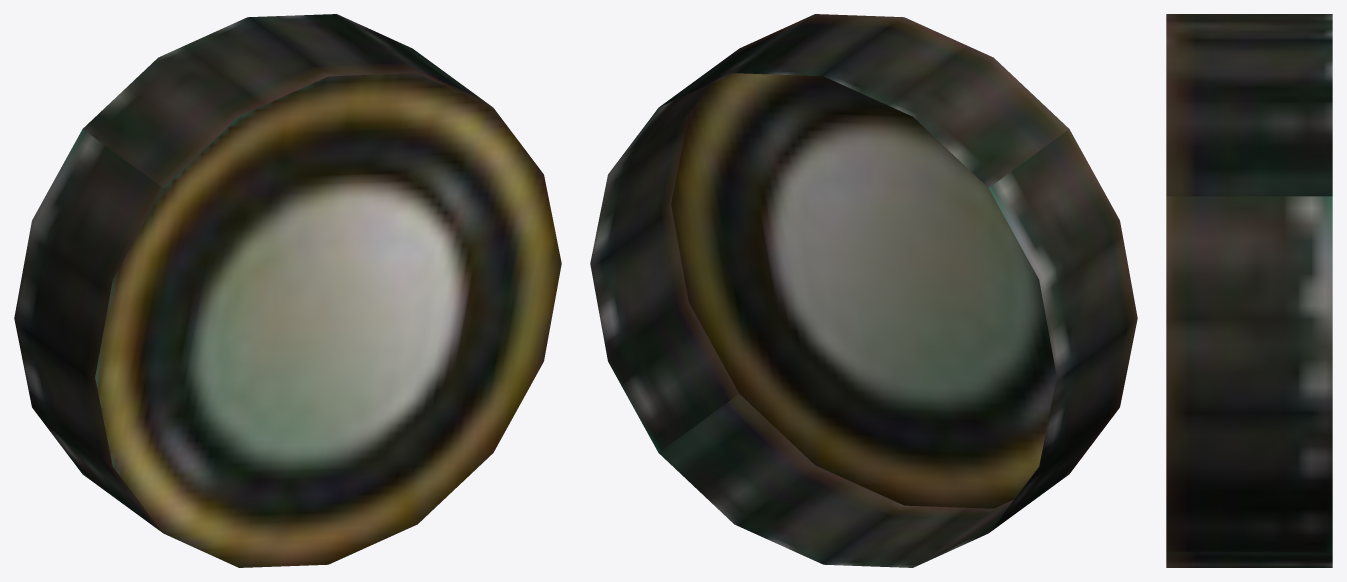
File: round_lever_001.obj
The picture shows the model from 3 angles, left to right: view 1: azimuth 30°, elevation 25°; view 2: azimuth 150°, elevation 25°; view 3: azimuth 270°, elevation 25°; orthographic projection. The views are drawn at different scales.
Visible parts, largest first — view 1: round_lever_001_Cylinder.001; view 2: round_lever_001_Cylinder.001; view 3: round_lever_001_Cylinder.001.
Boxes of the visible parts, x1=… form: round_lever_001_Cylinder.001: x1=14, y1=14, x2=561, y2=567; round_lever_001_Cylinder.001: x1=590, y1=14, x2=1137, y2=567; round_lever_001_Cylinder.001: x1=1166, y1=14, x2=1332, y2=567.
Size of the model in its own units: 0.0344 by 0.0344 by 0.0103.
Materials: 1 (1 with a texture image).
